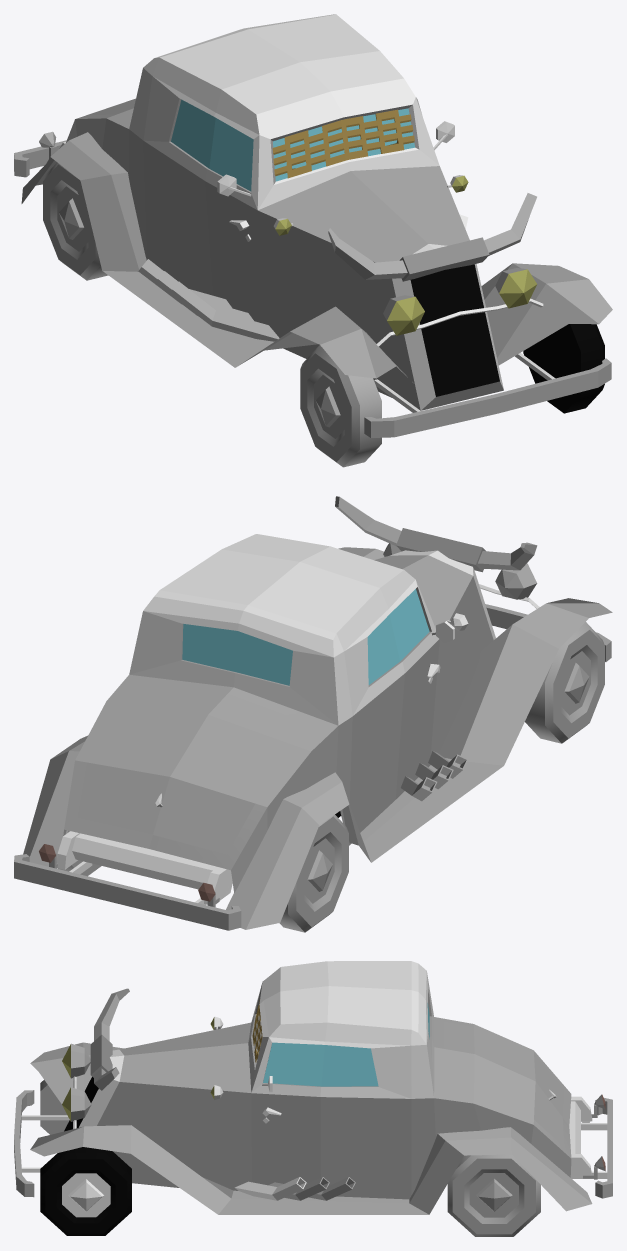
Rendered from Player.fbx.
3 views of the same model, one above another, from view 1: azimuth 30°, elevation 25°; view 2: azimuth 150°, elevation 25°; view 3: azimuth 270°, elevation 25° (orthographic). The views are drawn at different scales.
Visible parts, largest first — view 1: Body, DoorR, Hood, RL1, Front_B, Horns, RR, FL, R3, Rear_B, R2, R1; view 2: Body, Detachable_Rear, DoorR, RL1, Rear_B, RR, Horns, Hood, Front_B; view 3: Body, DoorL, Detachable_Rear, Hood, FL, RL, Horns, Front_B, RL1, L3, Rear_B, L2 (+1 smaller).
Boxes of the visible parts, bbox=[...] form: Body: bbox=[21, 14, 612, 412]; DoorR: bbox=[143, 76, 265, 324]; Hood: bbox=[258, 166, 469, 262]; RL1: bbox=[300, 345, 381, 467]; Front_B: bbox=[364, 358, 611, 437]; Horns: bbox=[328, 193, 536, 281]; RR: bbox=[43, 162, 108, 280]; FL: bbox=[523, 324, 604, 413]; R3: bbox=[169, 281, 279, 341]; Rear_B: bbox=[14, 140, 66, 177]; R2: bbox=[138, 259, 232, 308]; R1: bbox=[154, 271, 253, 320]; Body: bbox=[23, 534, 612, 929]; Detachable_Rear: bbox=[77, 683, 319, 854]; DoorR: bbox=[344, 580, 454, 845]; RL1: bbox=[525, 622, 604, 743]; Rear_B: bbox=[14, 854, 241, 930]; RR: bbox=[279, 814, 348, 932]; Horns: bbox=[335, 496, 537, 572]; Hood: bbox=[374, 550, 473, 628]; Front_B: bbox=[485, 604, 611, 661]; Body: bbox=[21, 961, 607, 1214]; DoorL: bbox=[251, 1037, 411, 1199]; Detachable_Rear: bbox=[444, 1022, 564, 1146]; Hood: bbox=[110, 1022, 251, 1092]; FL: bbox=[40, 1147, 131, 1235]; RL: bbox=[447, 1154, 540, 1236]; Horns: bbox=[90, 988, 129, 1090]; Front_B: bbox=[14, 1090, 34, 1197]; RL1: bbox=[40, 1080, 69, 1134]; L3: bbox=[234, 1177, 306, 1200]; Rear_B: bbox=[595, 1098, 612, 1198]; L2: bbox=[268, 1177, 329, 1200].
Size of the model in its own units: 5.81 by 4.8 by 12.8.
